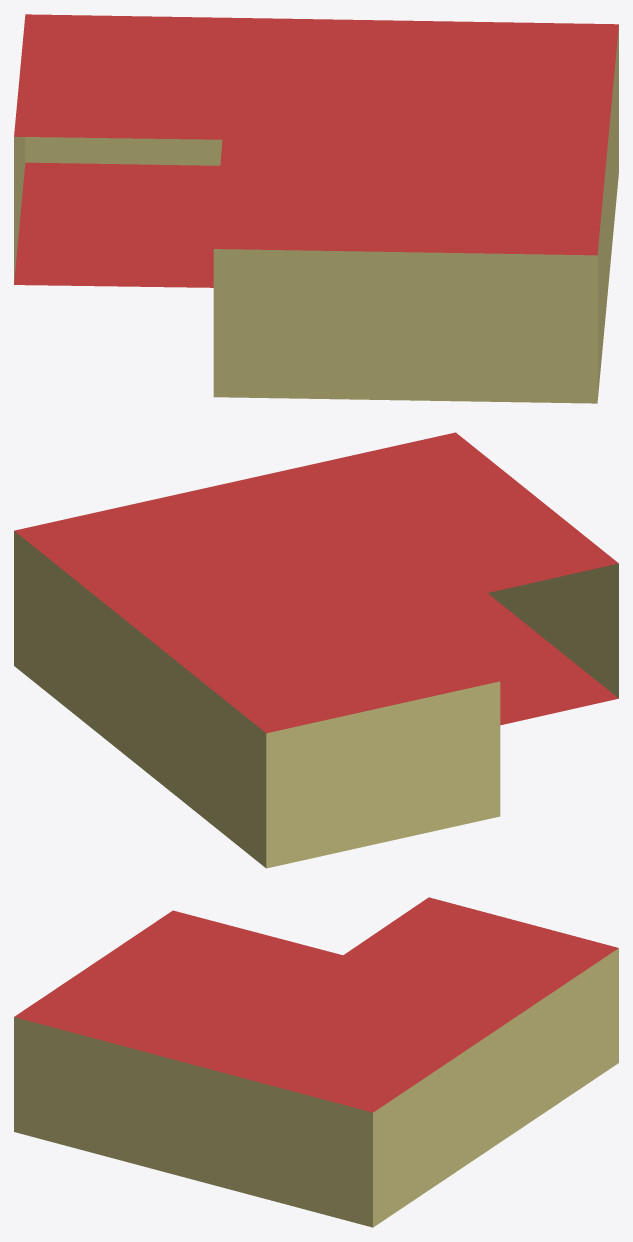
The picture shows the model from 3 angles, top to bottom: view 1: azimuth 30°, elevation 25°; view 2: azimuth 150°, elevation 25°; view 3: azimuth 270°, elevation 25°; orthographic projection. The views are drawn at different scales.
Bounding box in the file's own units: 14.19 × 16.84 × 3.53.
